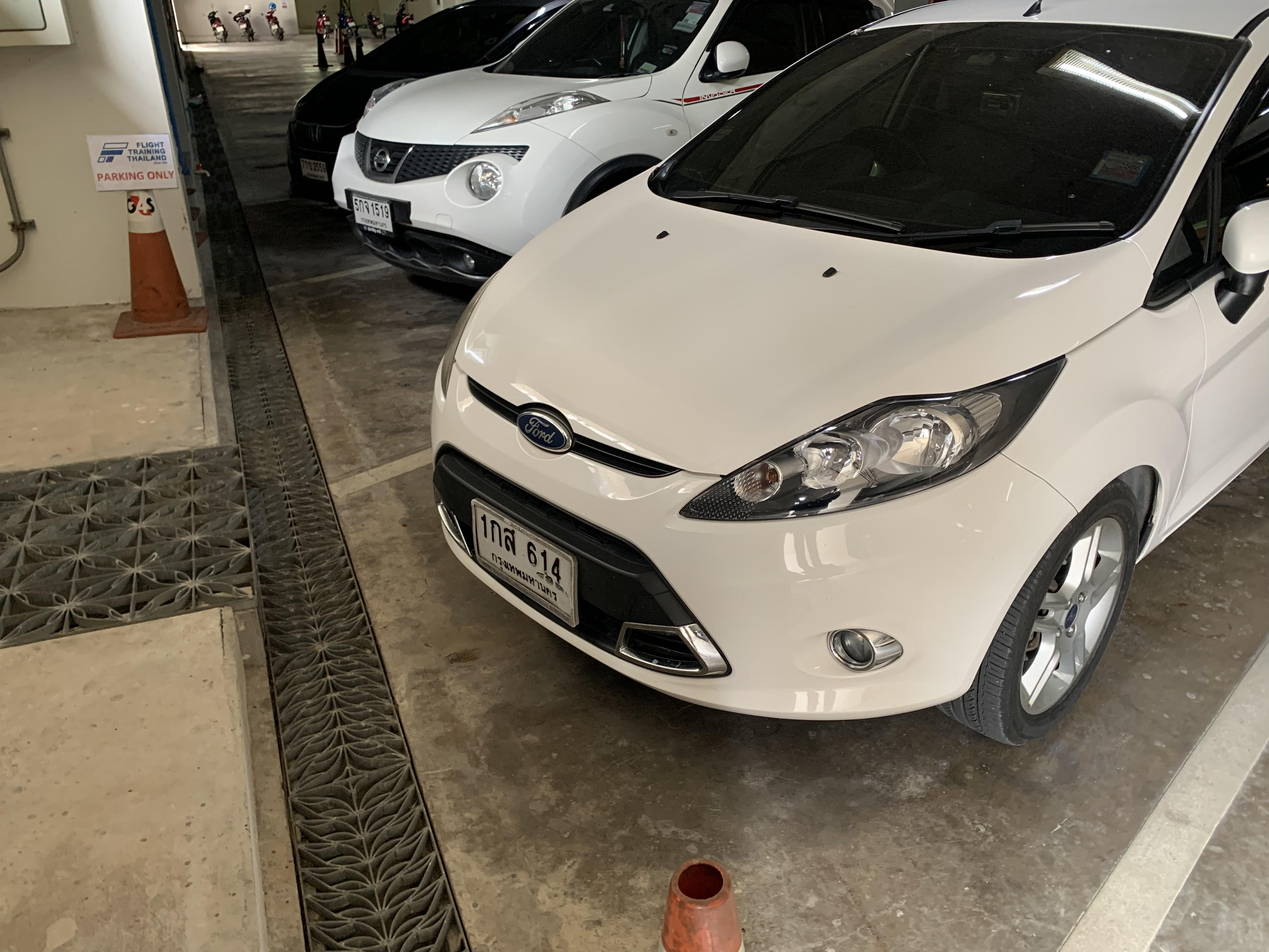license-plate: (460, 493, 585, 636), (345, 183, 401, 238), (296, 151, 330, 180)
